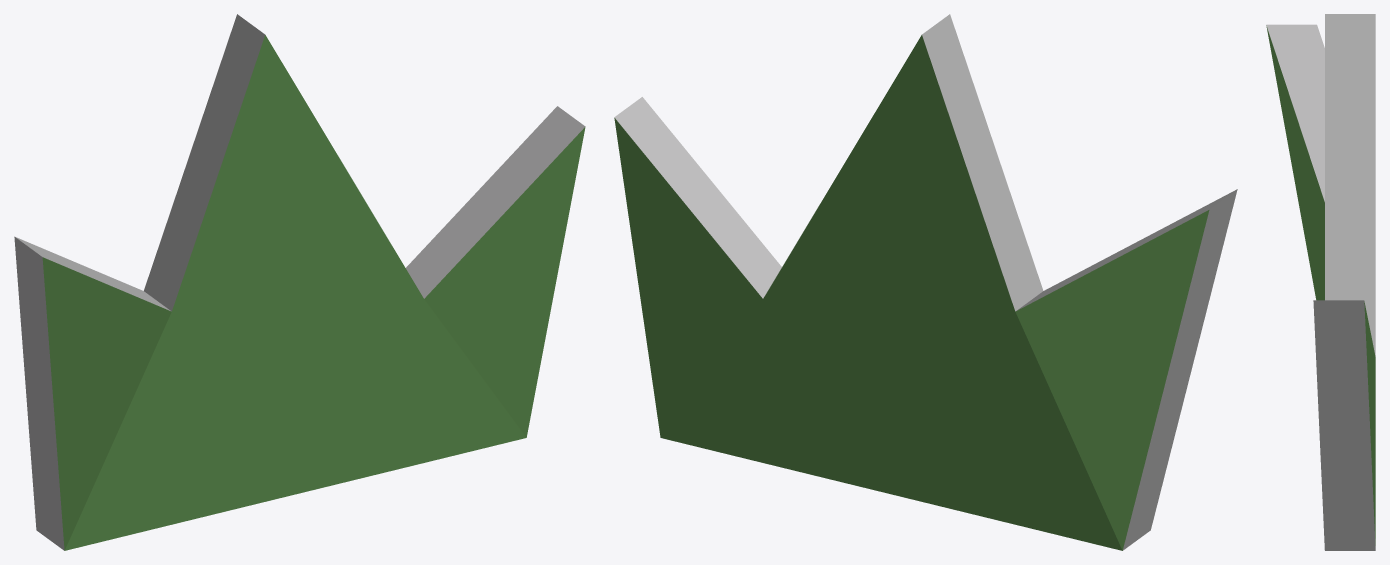
File: paper grass 2.fbx
3 views of the same model, side by side, from view 1: azimuth 30°, elevation 25°; view 2: azimuth 150°, elevation 25°; view 3: azimuth 270°, elevation 25° (orthographic). The views are drawn at different scales.
Visible parts, largest first — view 1: Cube.003; view 2: Cube.003; view 3: Cube.003.
Boxes of the visible parts, x1,y1,x2,y2 form: Cube.003: [14, 14, 585, 550]; Cube.003: [614, 14, 1237, 550]; Cube.003: [1266, 14, 1375, 550].
Bounding box in the file's own units: 32.3 × 25.34 × 5.96.
